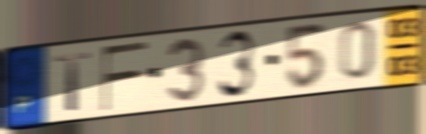0: (336, 18, 380, 83)
3: (214, 28, 266, 100), (165, 35, 207, 105)
5: (284, 19, 328, 93)
F: (100, 39, 151, 115)
T: (52, 49, 95, 114)
